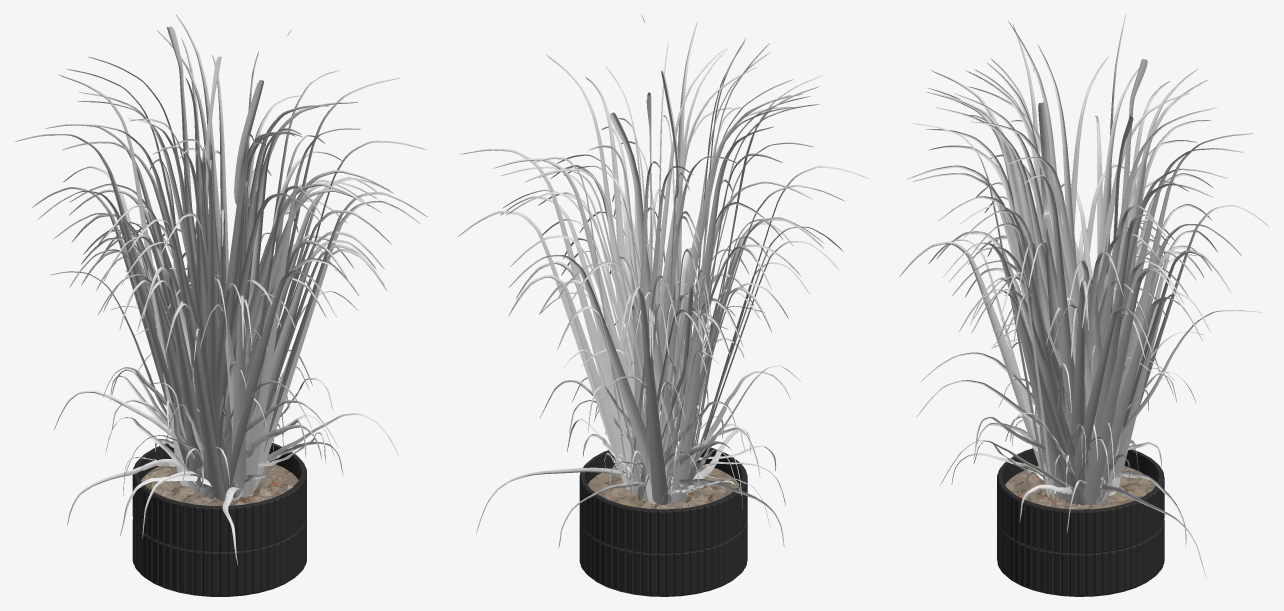
Rendered from fluffy_pampass_grass_2f656baa.fbx.
The picture shows the model from 3 angles, left to right: view 1: azimuth 30°, elevation 25°; view 2: azimuth 150°, elevation 25°; view 3: azimuth 270°, elevation 25°; orthographic projection. The views are drawn at different scales.
Parts seen in each view (by area): view 1: fluffy_pampass_grass_2f656baa; view 2: fluffy_pampass_grass_2f656baa; view 3: fluffy_pampass_grass_2f656baa.
Boxes of the visible parts, bbox=[...] form: fluffy_pampass_grass_2f656baa: bbox=[15, 14, 428, 596]; fluffy_pampass_grass_2f656baa: bbox=[457, 14, 870, 596]; fluffy_pampass_grass_2f656baa: bbox=[899, 14, 1269, 596].
Bounding box in the file's own units: 0.6971 × 1.05 × 0.6821.
4 materials, 1 textured.
